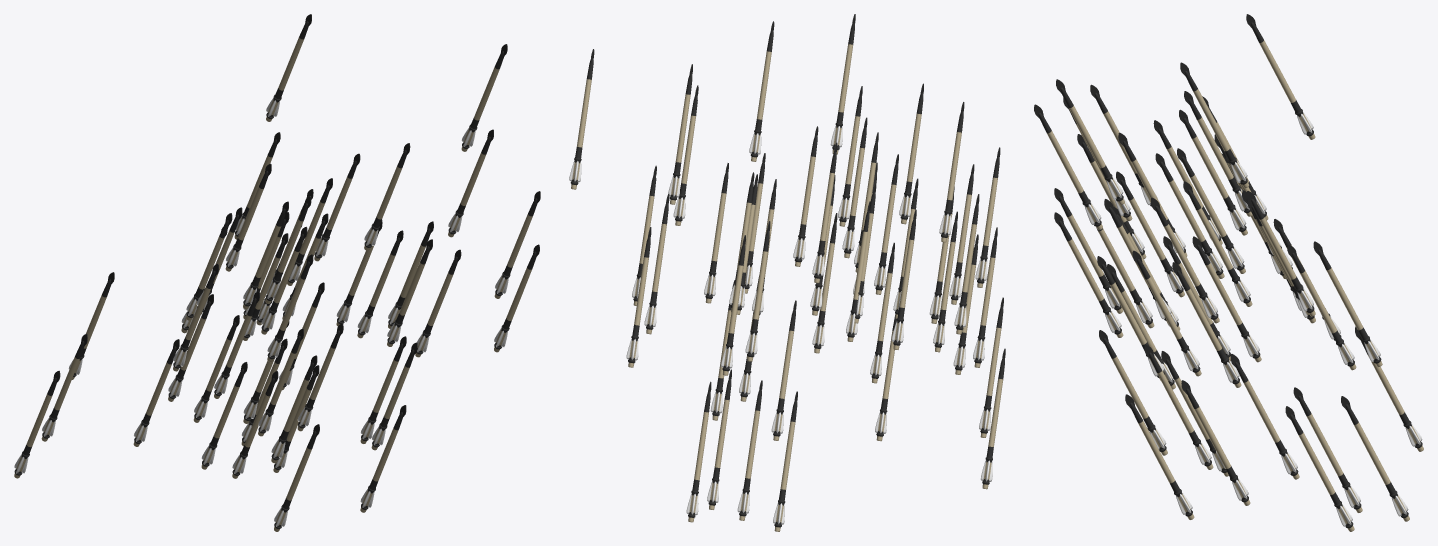
The picture shows the model from 3 angles, left to right: view 1: azimuth 30°, elevation 25°; view 2: azimuth 150°, elevation 25°; view 3: azimuth 270°, elevation 25°; orthographic projection. The views are drawn at different scales.
Parts seen in each view (by area): view 1: A4; view 2: A4; view 3: A4.
Part boxes in pixels (left/top/right/bottom): A4: left=14, top=14, right=540, bottom=531; A4: left=569, top=14, right=1005, bottom=531; A4: left=1034, top=14, right=1423, bottom=531.
Bounding box in the file's own units: 1.26 × 1.3 × 0.9045.
